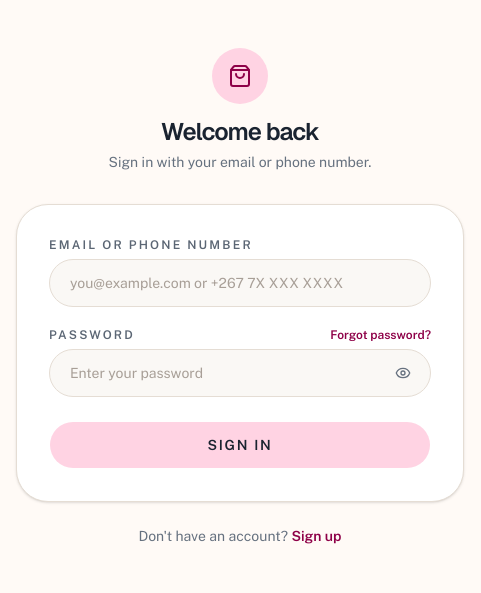
Test: Login page › lets shoppers sign in with an email and password
Type "jane@example.com" into the field labelled "Email or phone number" at [240, 283], box [49,259,431,307]
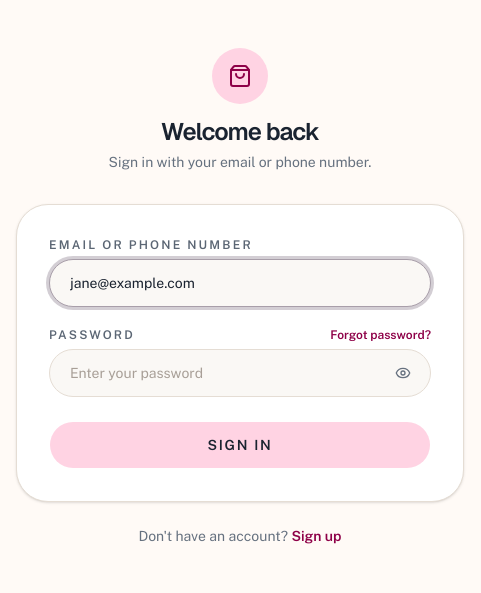
Type "password123" into the password field labelled "Password" at [240, 373], box [49,349,431,397]
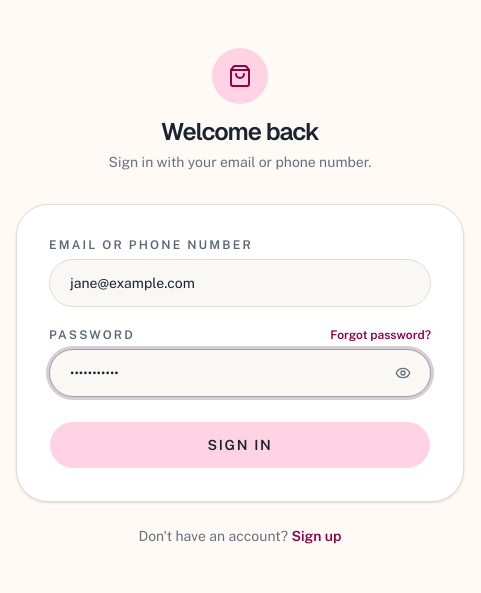
Click the button "Sign in" at [240, 445], box [49,421,431,469]
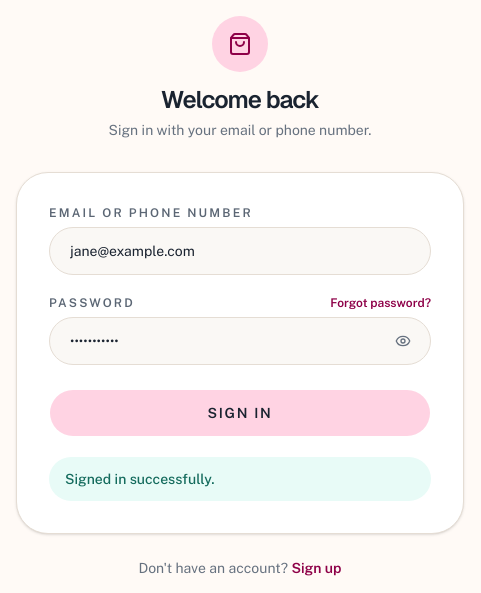
Now the message reads "Signed in successfully.", box [65,471,215,487]
